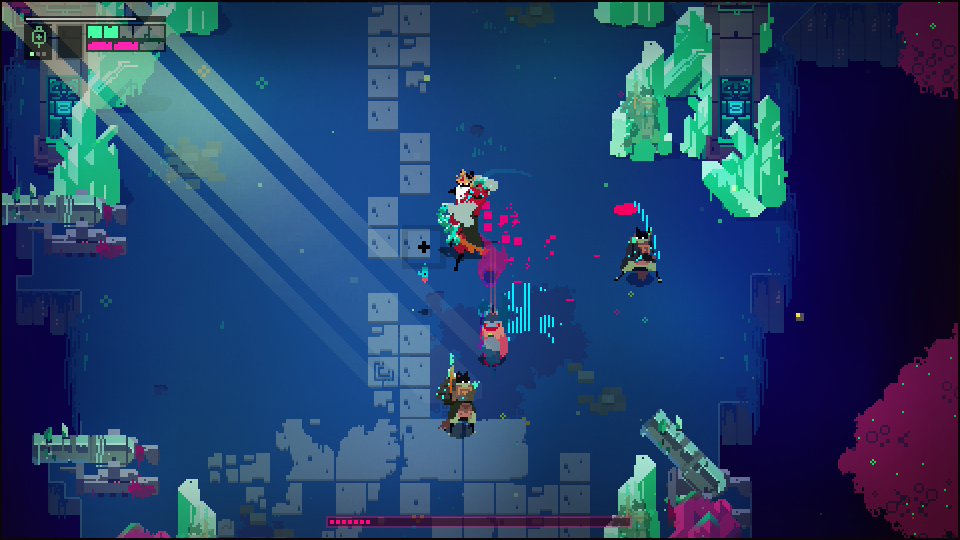hanged_man: (432, 166, 503, 283)
player: (477, 314, 512, 369)
